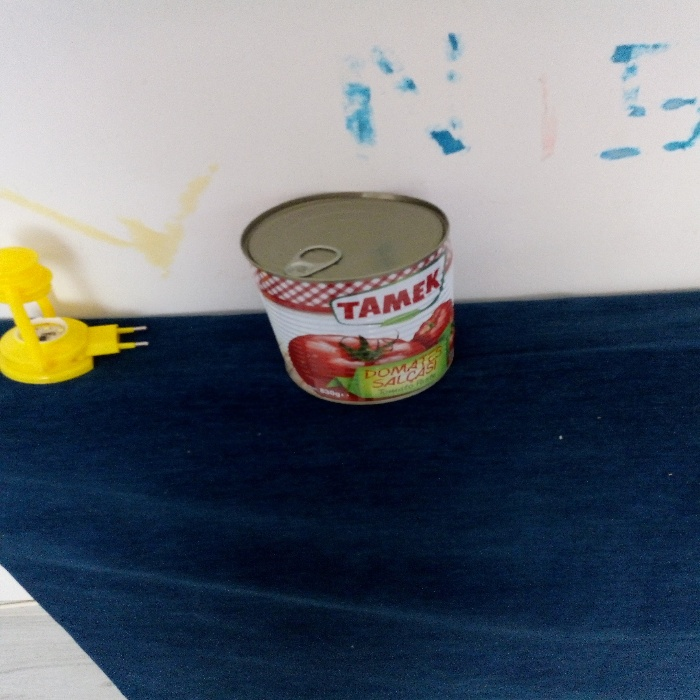salca: (252, 165, 467, 409)
